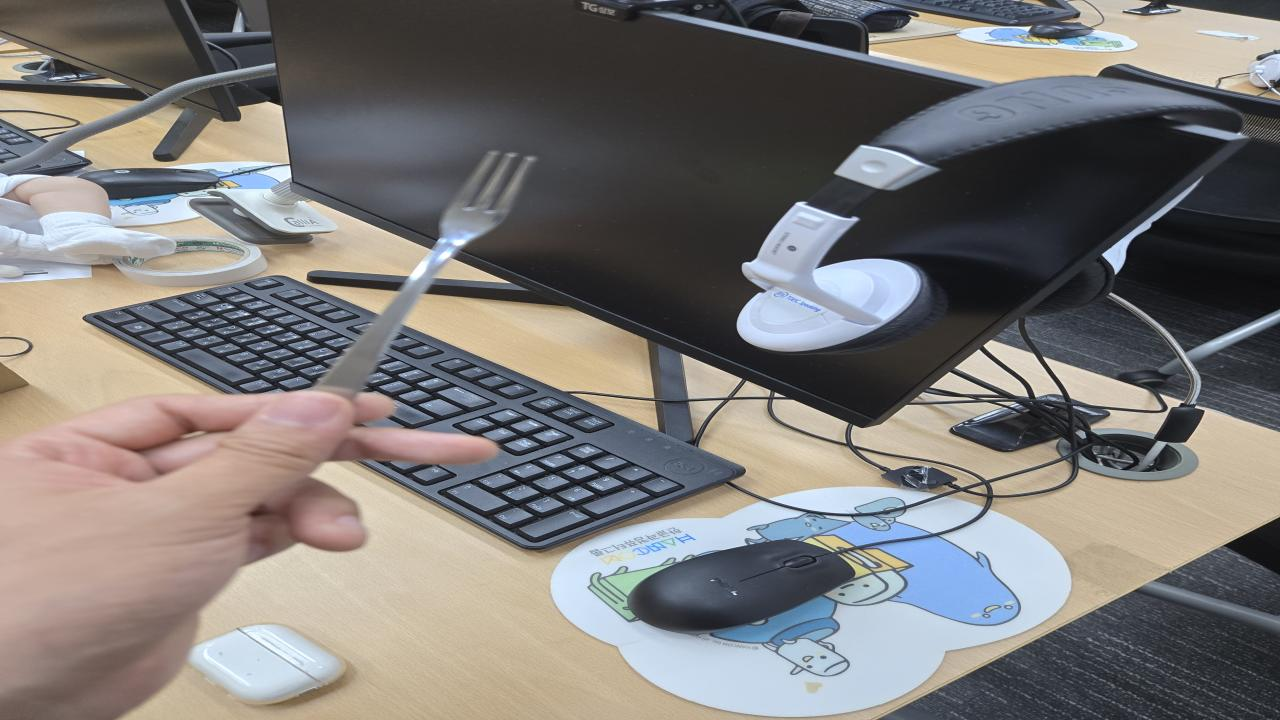fork: (316, 150, 544, 392)
